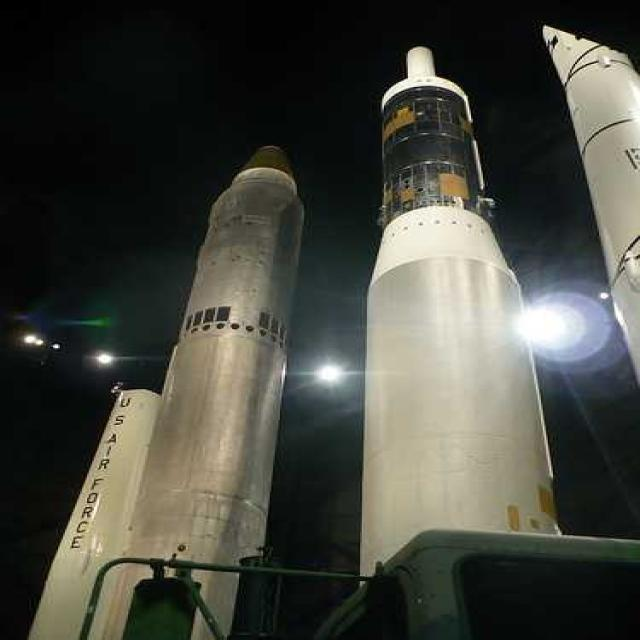missile: (39, 351, 159, 640)
